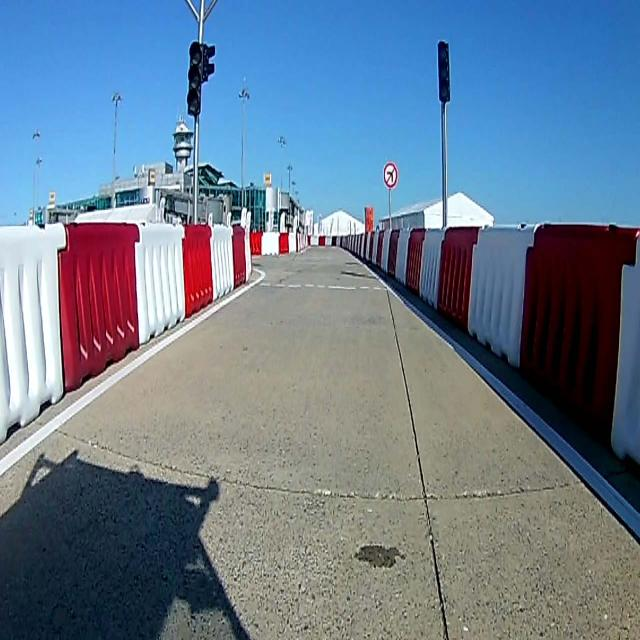soladonulmez: (383, 162, 398, 188)
